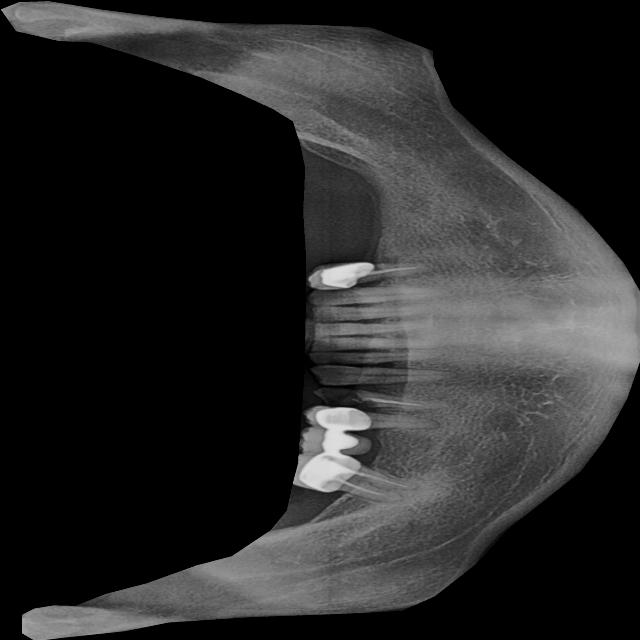mandibula: (1, 0, 640, 640)
